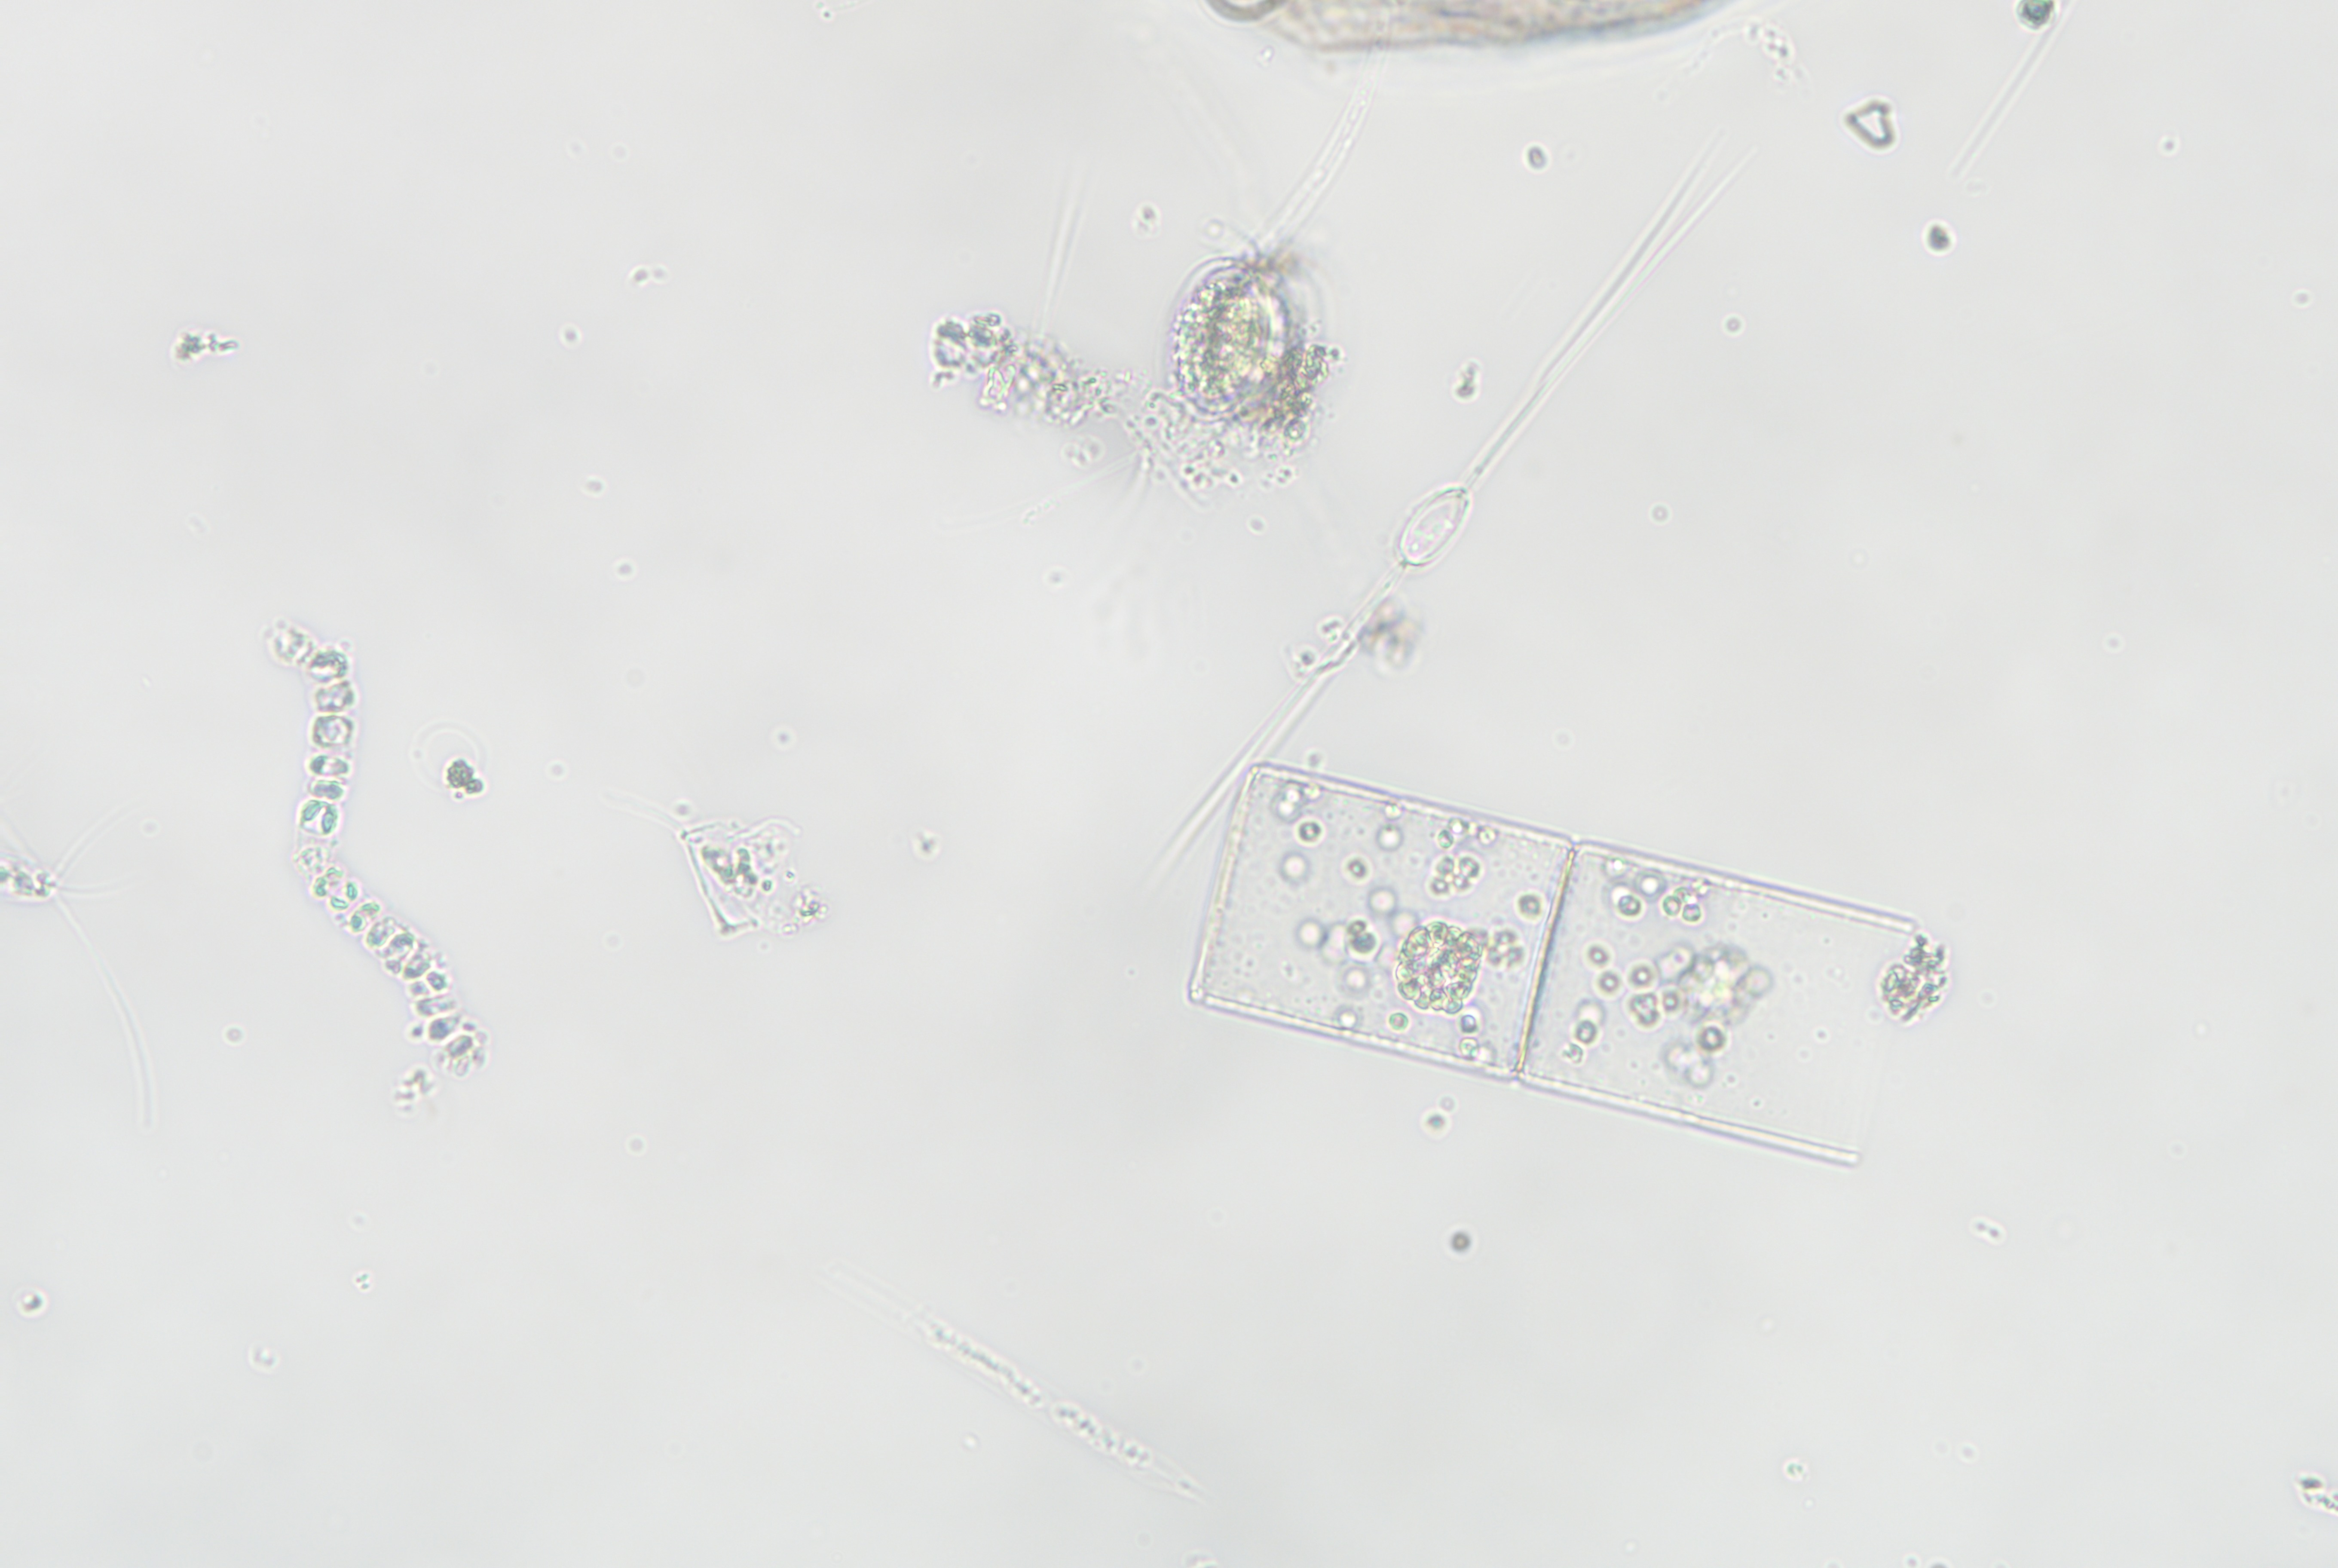chaetoceros: (1153, 115, 1759, 875)
guinardia flaccida: (1155, 754, 1929, 1192)
skeletonema: (222, 604, 511, 1127)
